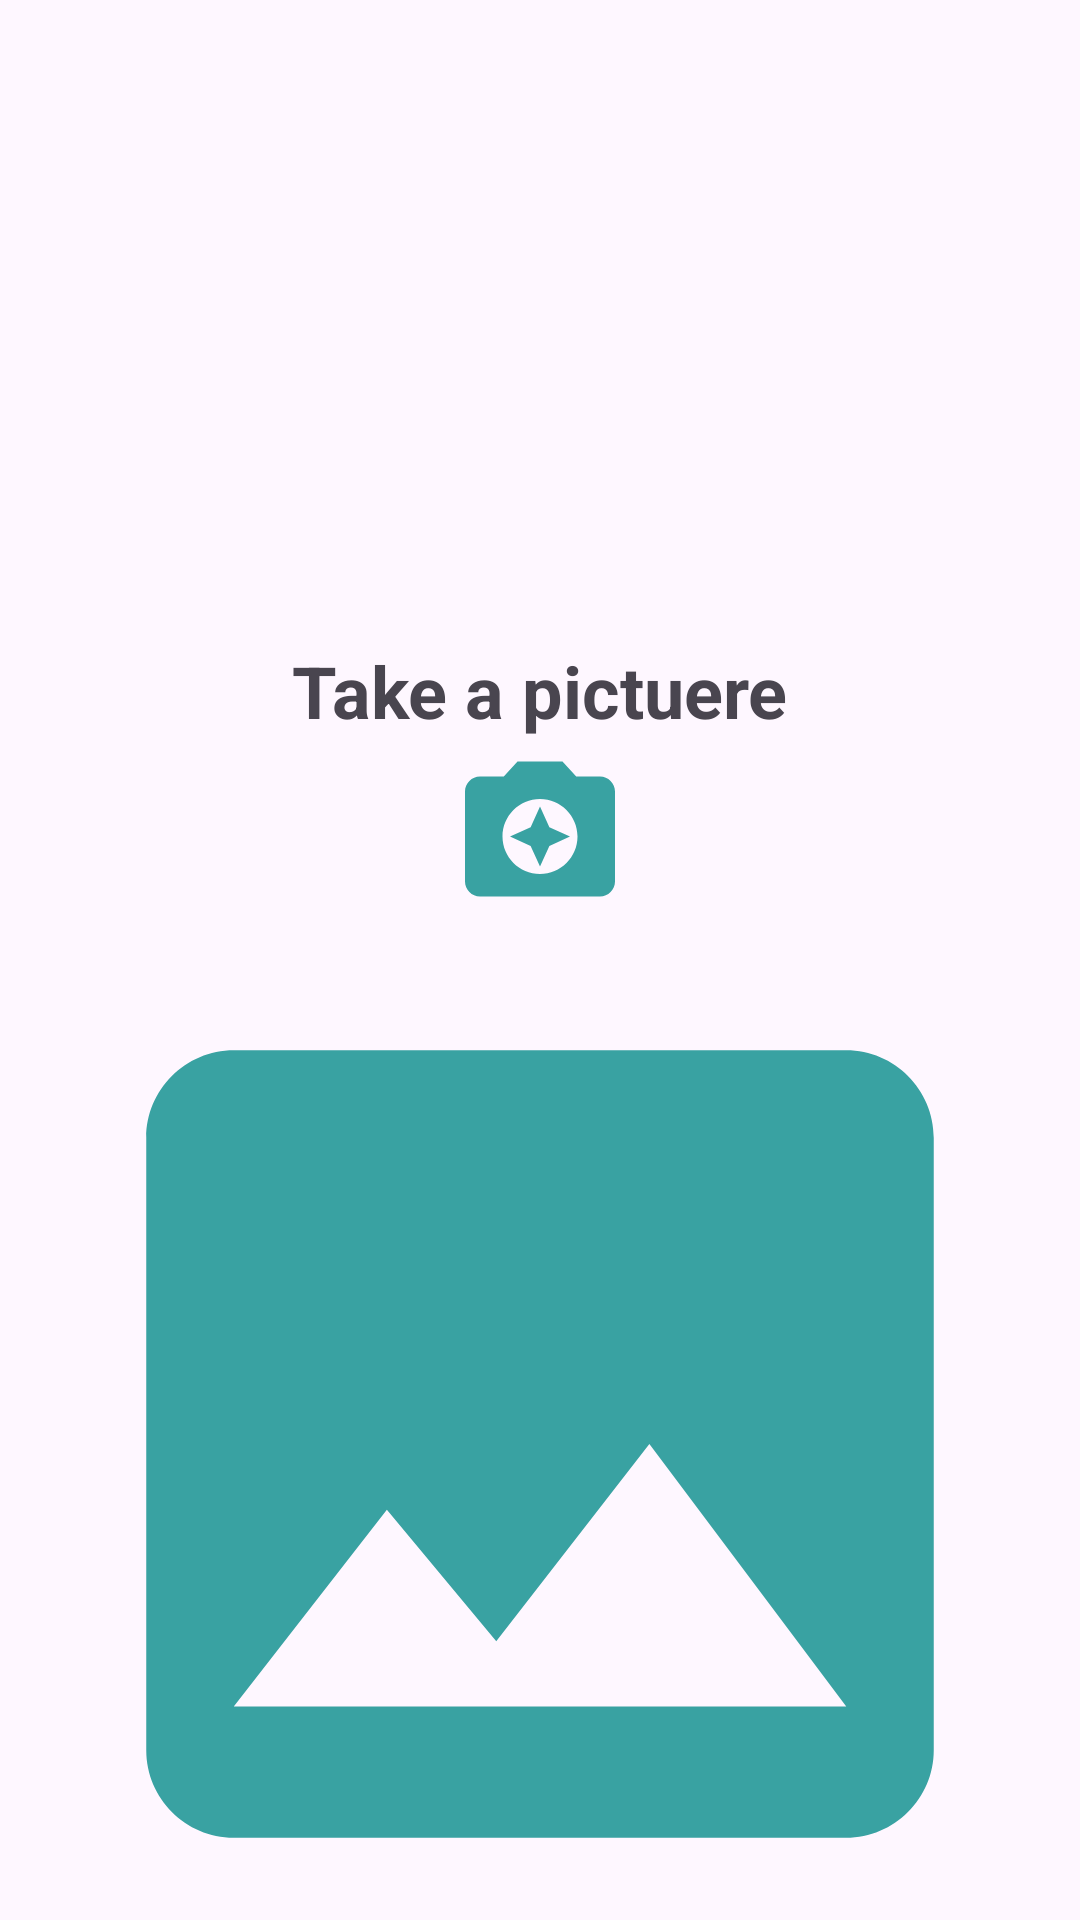

Icon click points for this 1080 × 1920 phone screenshot, format [x,y]:
camera enhance: [540,829]
